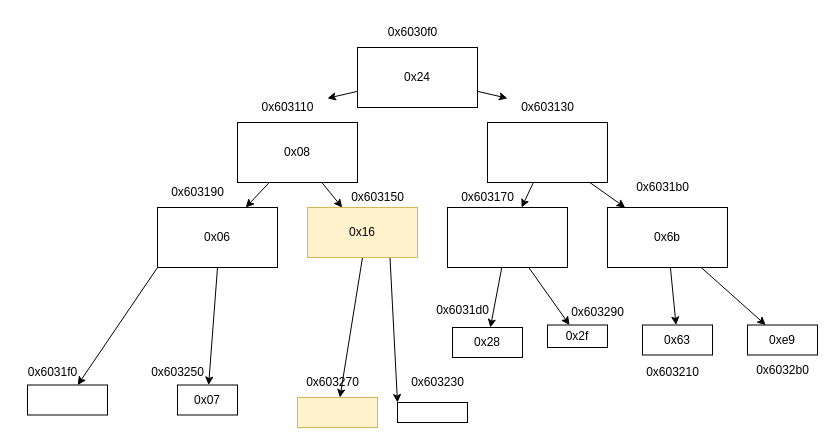
This 839x445 diagram has some shape labels left out. The centre of each missing label's shape, as x and y in pixels:
"0x01" belongs at (67,399).
"0x14" belongs at (337,412).
"0x23" belongs at (432,412).
"0x2d" belongs at (507,237).
"0x32" belongs at (547,152).
